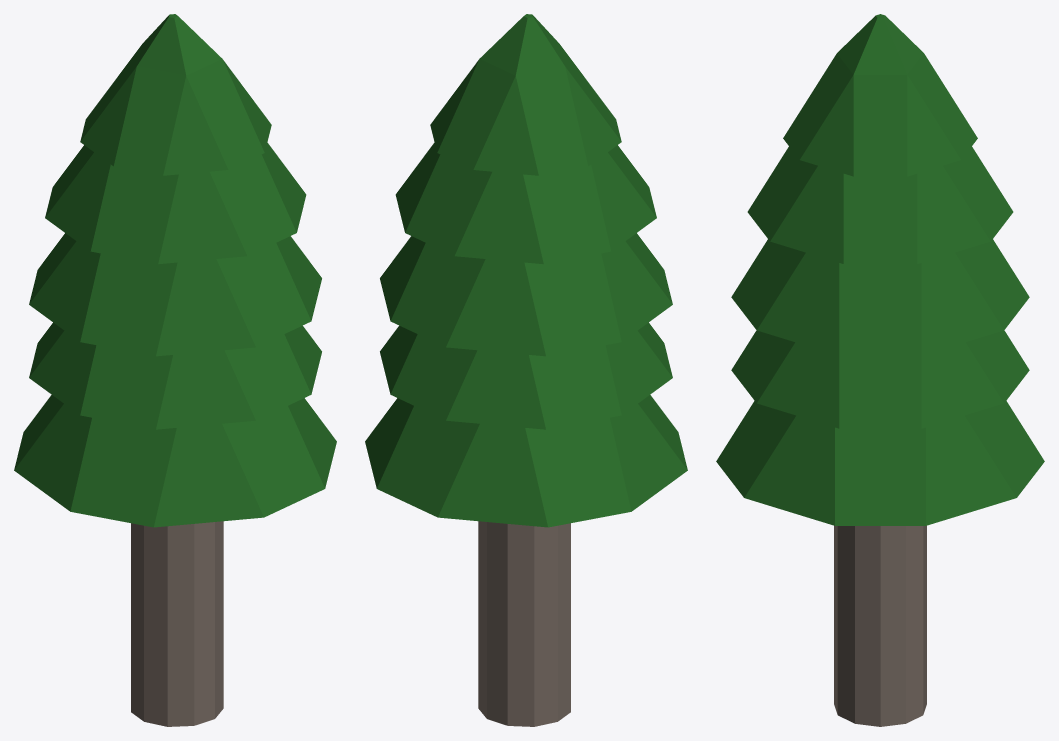
File: tree 2.fbx
The picture shows the model from 3 angles, left to right: view 1: azimuth 30°, elevation 25°; view 2: azimuth 150°, elevation 25°; view 3: azimuth 270°, elevation 25°; orthographic projection.
Parts seen in each view (by area): view 1: polySurface5; view 2: polySurface5; view 3: polySurface5.
Part boxes in pixels (bbox=[...]): polySurface5: bbox=[14, 14, 336, 726]; polySurface5: bbox=[365, 14, 687, 726]; polySurface5: bbox=[716, 14, 1044, 726].
Bounding box in the file's own units: 25.61 × 62.29 × 26.93.
